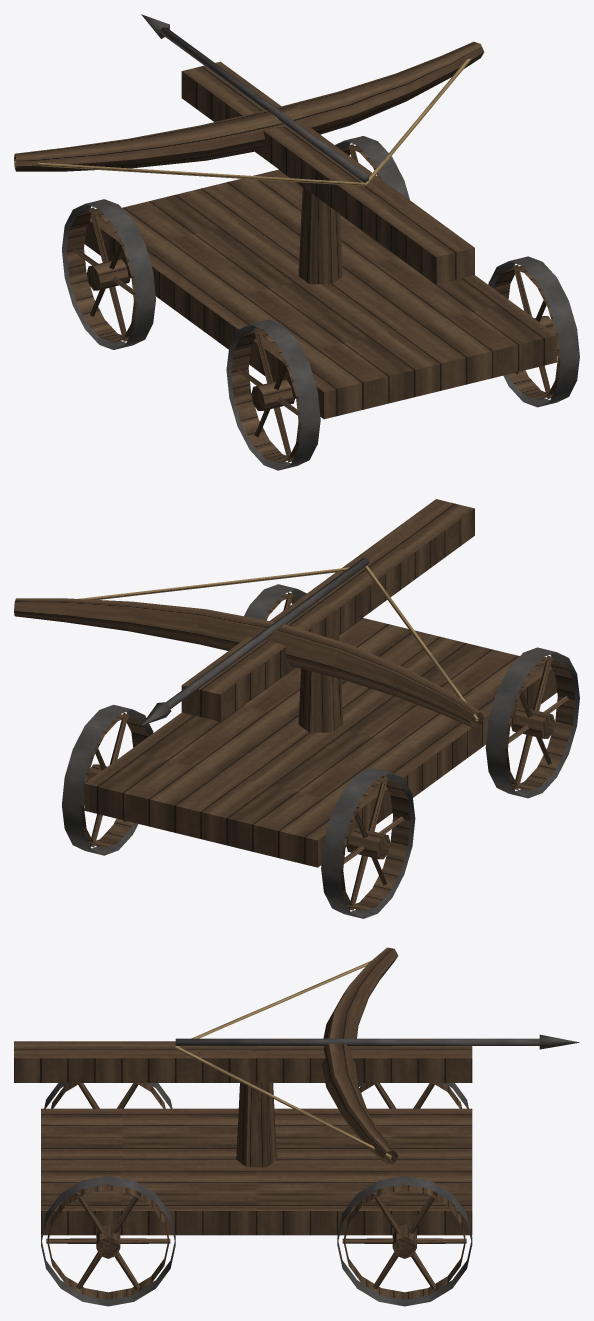
File: Ballista_1.gltf
3 renders of one model, top to bottom at view 1: azimuth 30°, elevation 25°; view 2: azimuth 150°, elevation 25°; view 3: azimuth 270°, elevation 25°, orthographic. The views are drawn at different scales.
Parts seen in each view (by area): view 1: Ballista_1; view 2: Ballista_1; view 3: Ballista_1.
Part boxes in pixels (box(x1,y1,x2,y2)): Ballista_1: box(14, 14, 579, 470); Ballista_1: box(14, 499, 579, 918); Ballista_1: box(14, 947, 579, 1306).
Bounding box in the file's own units: 3.61 × 1.72 × 4.2.
Materials: 3 (3 with a texture image).
